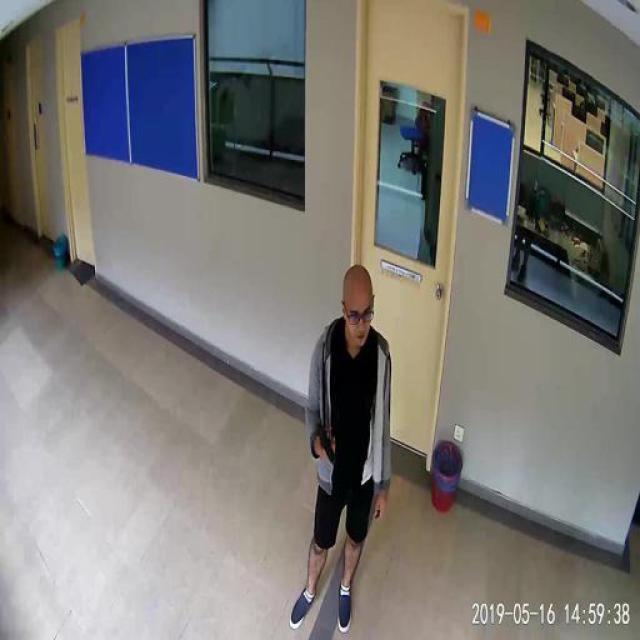weapon: (316, 422, 346, 468)
